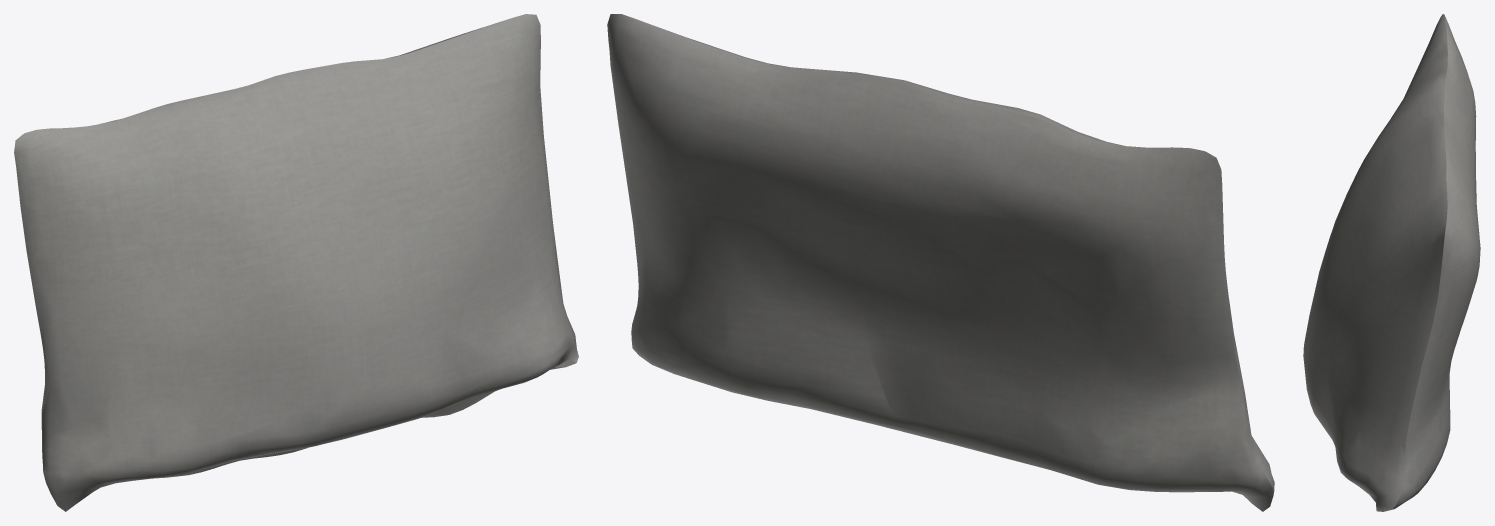
File: TheMuraka_Int_Pillow1.fbx
3 views of the same model, side by side, from view 1: azimuth 30°, elevation 25°; view 2: azimuth 150°, elevation 25°; view 3: azimuth 270°, elevation 25° (orthographic). The views are drawn at different scales.
Parts seen in each view (by area): view 1: pilow1; view 2: pilow1; view 3: pilow1.
Boxes of the visible parts, x1,y1,x2,y2 form: pilow1: (14,14,578,511); pilow1: (607,14,1274,511); pilow1: (1303,14,1480,511).
Bounding box in the file's own units: 87.88 × 53.57 × 28.96.
